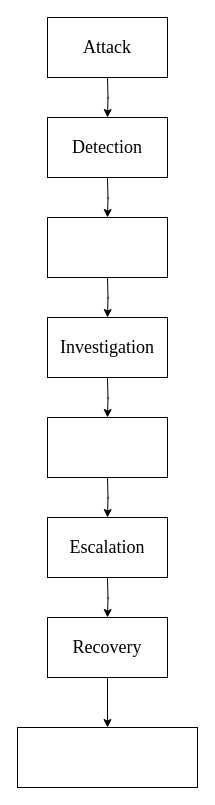
Some shapes in this 215 by 805 pixel diagram are drawn without their labels. Here are the shapes that lost their labels. From the top down, the centre of each, then its label:
At point (107, 247): "Triage".
At point (107, 447): "Containment".
At point (107, 757): "Lessons Learned".
